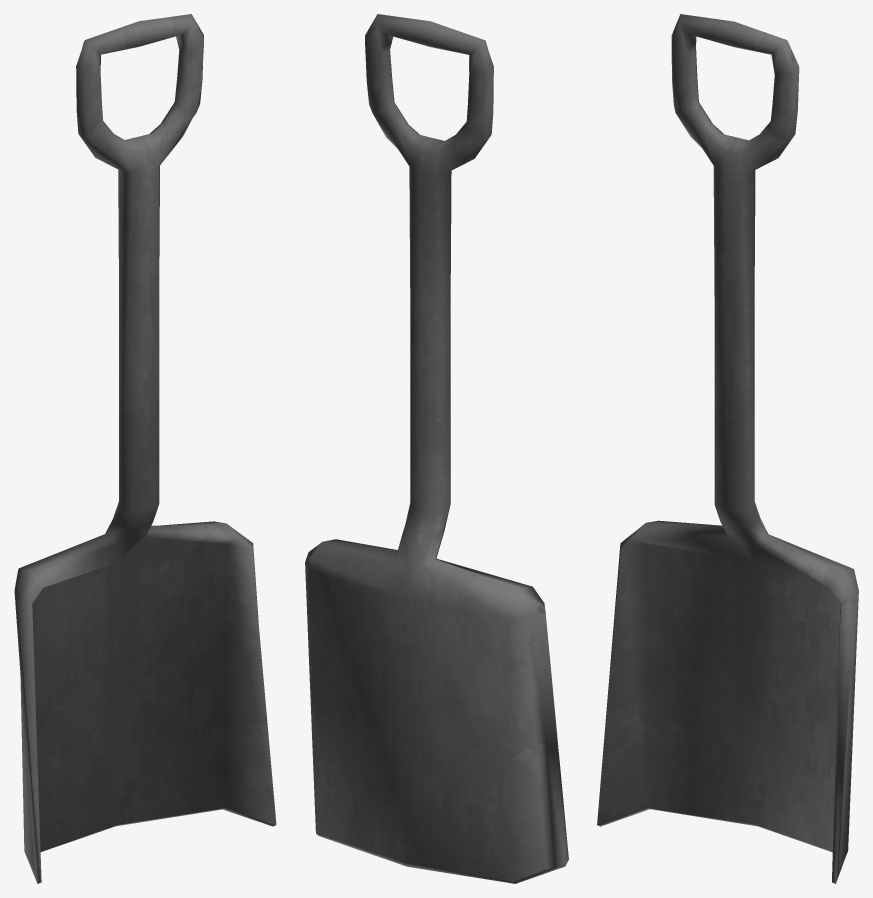
Rendered from Shovel.FBX.
3 renders of one model, left to right at view 1: azimuth 30°, elevation 25°; view 2: azimuth 150°, elevation 25°; view 3: azimuth 330°, elevation 25°, orthographic.
Visible parts, largest first — view 1: Shovel; view 2: Shovel; view 3: Shovel.
Boxes of the visible parts, box(x1,y1,x2,y2) form: Shovel: box(14, 14, 276, 883); Shovel: box(305, 14, 568, 883); Shovel: box(597, 14, 858, 883).
Bounding box in the file's own units: 12.09 × 40.34 × 4.15.
